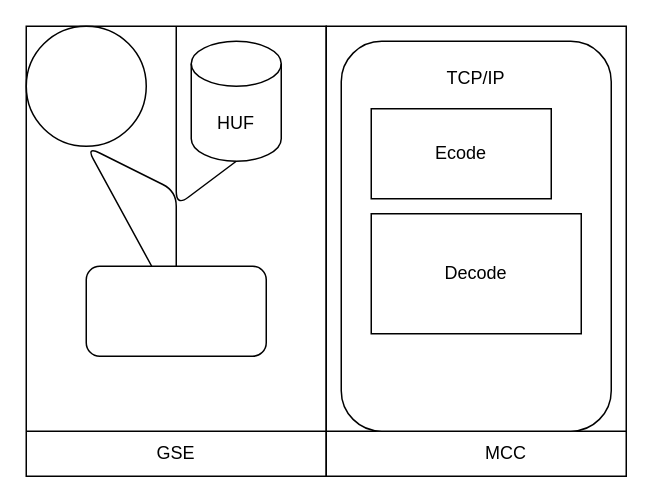
Image size: 654x503. Some labels were removed from this diagram. The centre of each missing label's shape, as x and y in pixels:
"HUF BOX" belongs at pixel 175 310.
"S-band" belongs at pixel 85 85.
